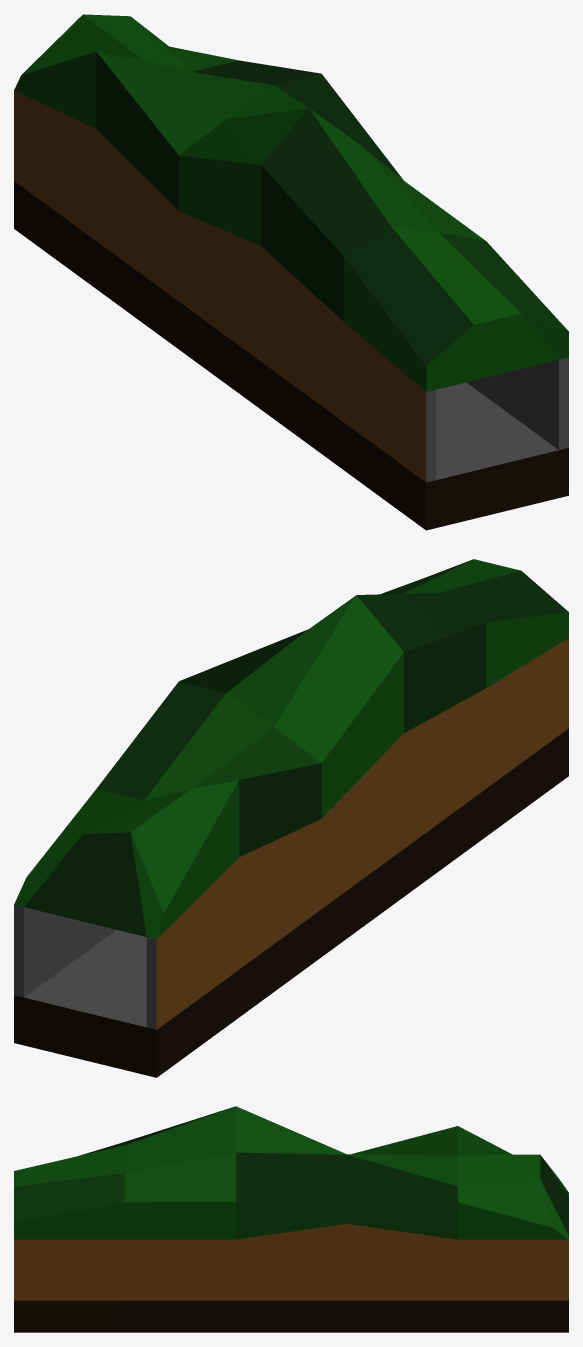
File: SM_road_tunnel.FBX
The picture shows the model from 3 angles, top to bottom: view 1: azimuth 30°, elevation 25°; view 2: azimuth 150°, elevation 25°; view 3: azimuth 270°, elevation 25°; orthographic projection. The views are drawn at different scales.
Visible parts, largest first — view 1: tunnel; view 2: tunnel; view 3: tunnel.
Boxes of the visible parts, x1,y1,x2,y2 form: tunnel: (14, 14, 568, 530); tunnel: (14, 559, 568, 1077); tunnel: (14, 1106, 568, 1332).
Bounding box in the file's own units: 700 × 1359 × 3500.
